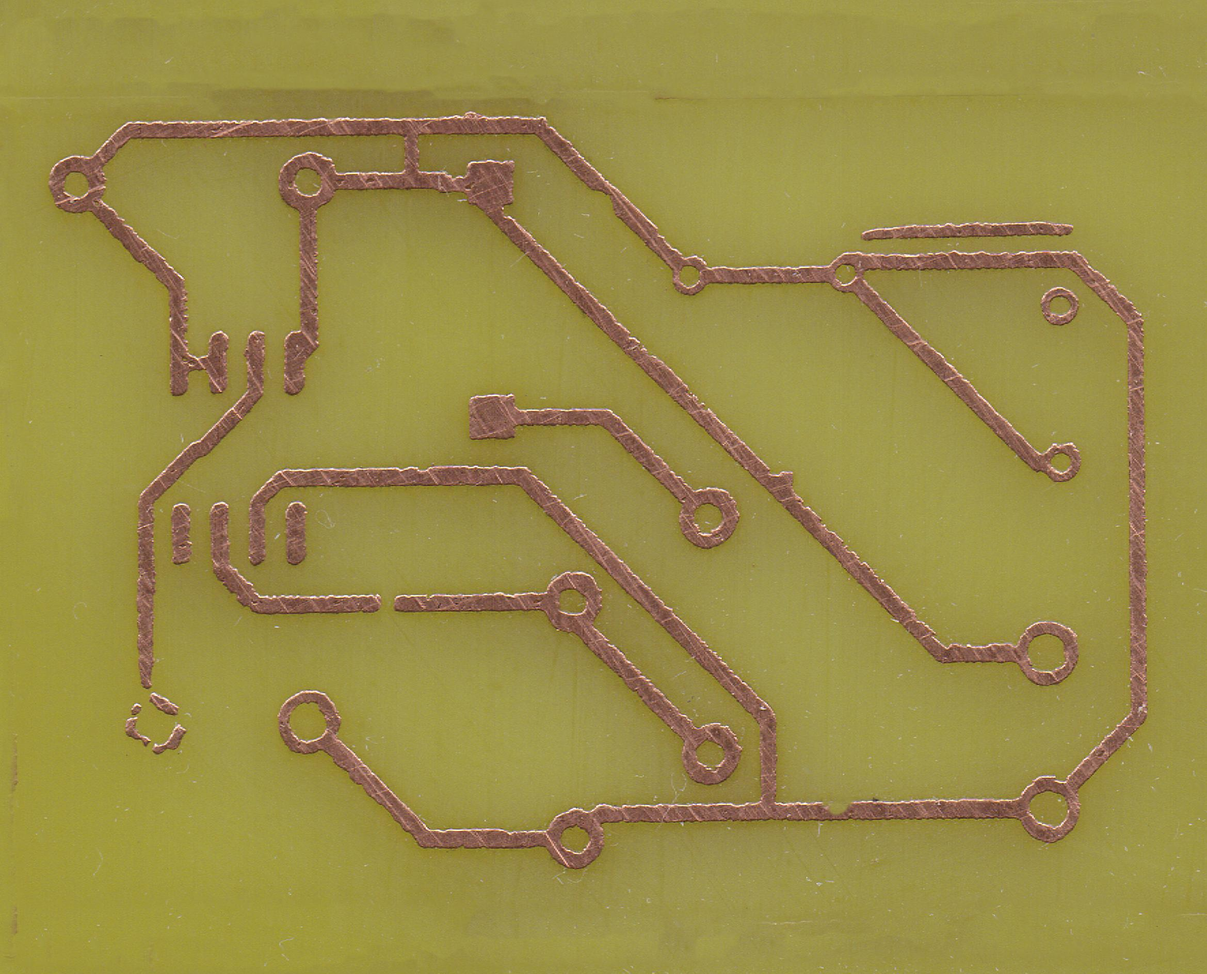missing_hole: (124, 693, 187, 755)
mouse_bite: (590, 186, 617, 216), (818, 801, 857, 820)
open_circuit: (359, 594, 413, 613)
short: (395, 118, 428, 189)
spur: (770, 470, 796, 496)
spurious_copper: (858, 220, 1078, 242)
